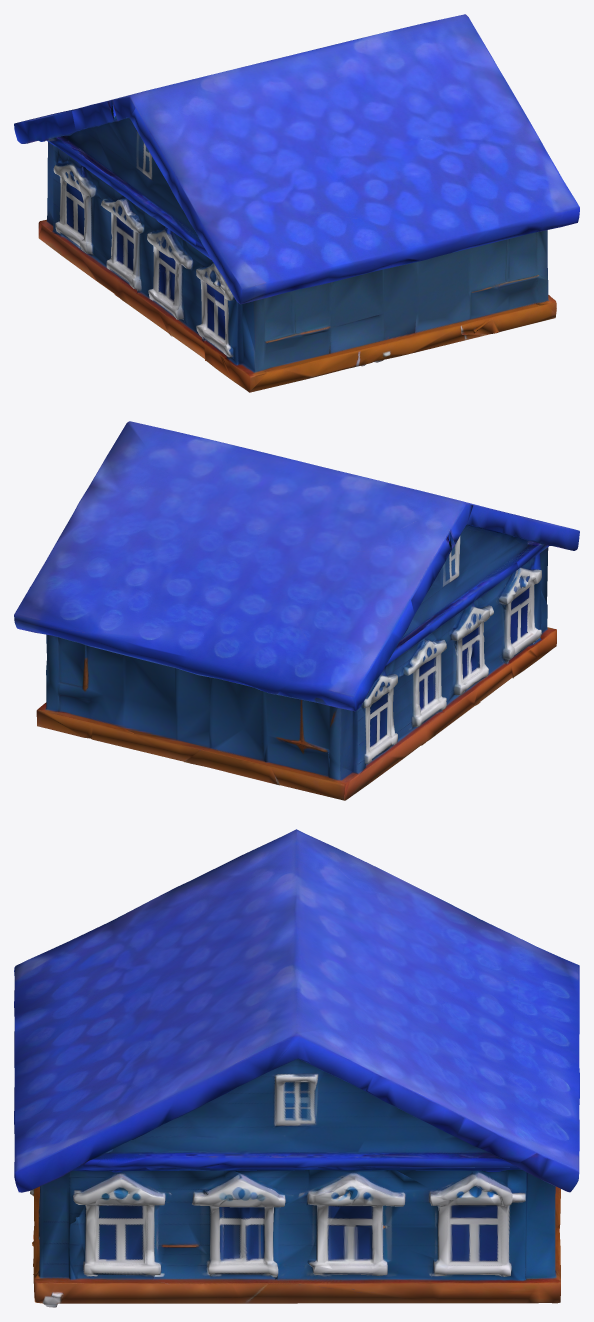
Rendered from Blue_House.glb.
The picture shows the model from 3 angles, top to bottom: view 1: azimuth 30°, elevation 25°; view 2: azimuth 150°, elevation 25°; view 3: azimuth 270°, elevation 25°; orthographic projection. The views are drawn at different scales.
Bounding box in the file's own units: 1.73 × 1.11 × 2.
Materials: 1 (1 with a texture image).
